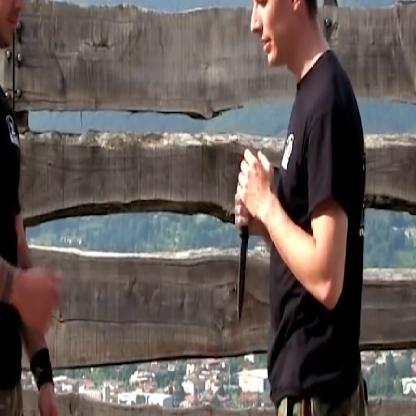knife: (231, 143, 264, 327)
